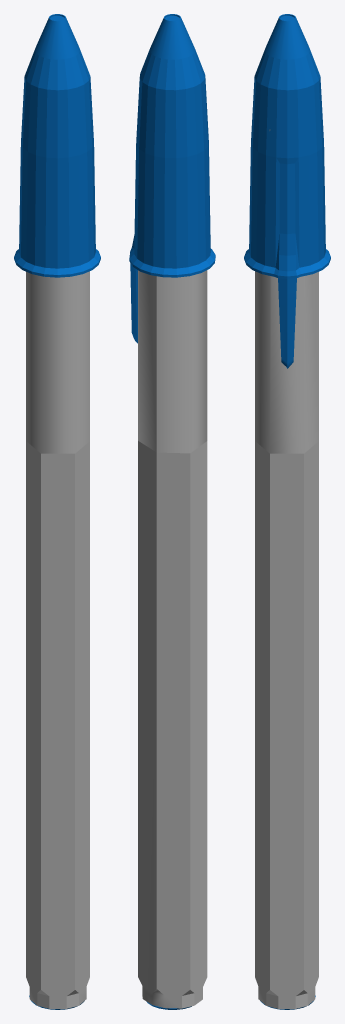
Rendered from pen1closed.fbx.
3 renders of one model, left to right at view 1: azimuth 90°, elevation 25°; view 2: azimuth 150°, elevation 25°; view 3: azimuth 270°, elevation 25°, orthographic.
Parts seen in each view (by area): view 1: pCylinder15; view 2: pCylinder15; view 3: pCylinder15.
Boxes of the visible parts, left/top/right/bottom form: pCylinder15: left=14, top=14, right=100, bottom=1009; pCylinder15: left=129, top=14, right=215, bottom=1009; pCylinder15: left=244, top=14, right=330, bottom=1009.
Bounding box in the file's own units: 1.17 × 14.36 × 1.14.
